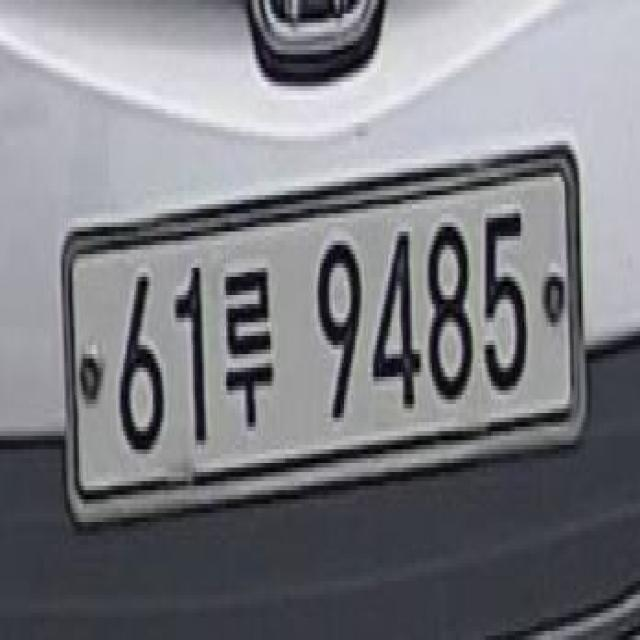1: (170, 254, 210, 451)
4: (368, 220, 424, 419)
5: (478, 198, 530, 392)
6: (115, 264, 165, 459)
8: (426, 209, 474, 406)
9: (312, 227, 365, 438)
license_plate: (49, 132, 596, 561)
lu: (218, 252, 278, 442)
